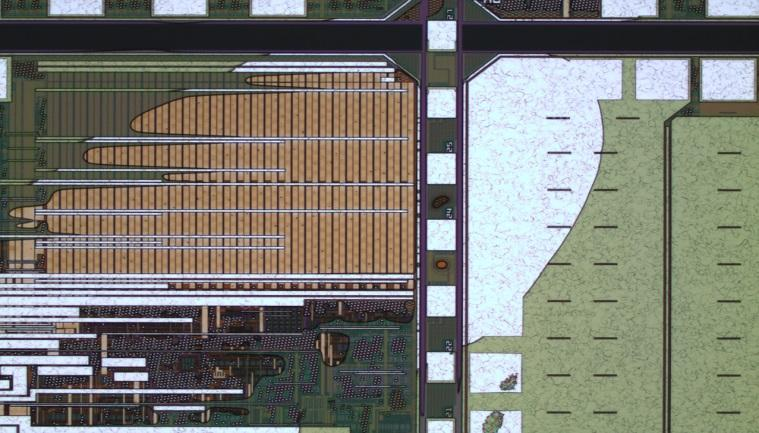COATING BAD: (1, 1, 612, 433)
